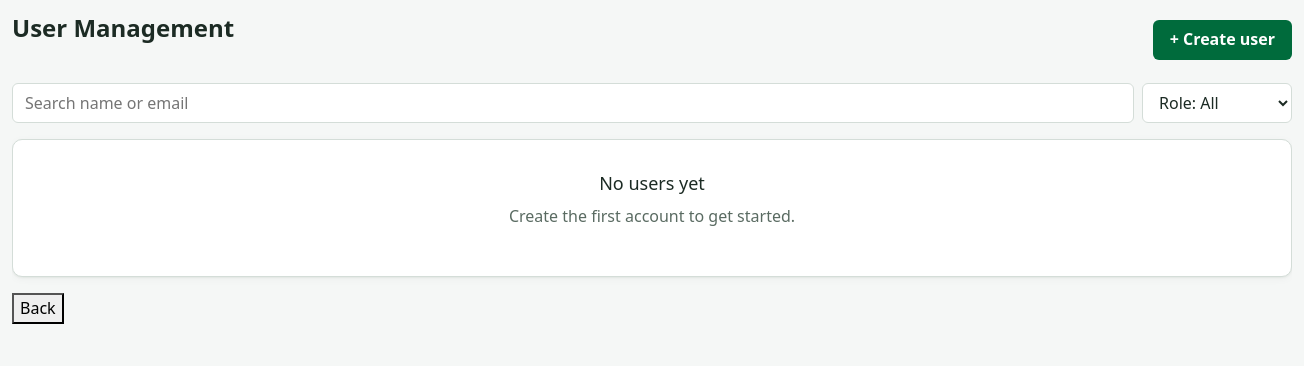
Scenario: UI-39: changing a filter writes the URL, so Back restores the previous filter › in User Management, a role chosen while a search is pending is kept
Step 1. Type "ann" into the search field named "Search users" → coordinates (573, 103), box 12,83 -> 1134,123
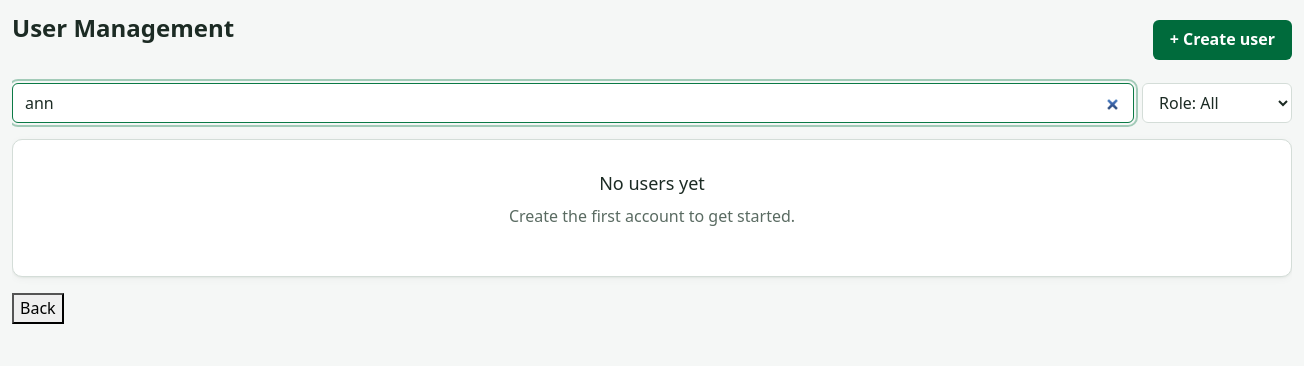
Step 2. Select "Administrator" in the dropdown named "Filter by role" → coordinates (1217, 103), box 1142,83 -> 1292,123
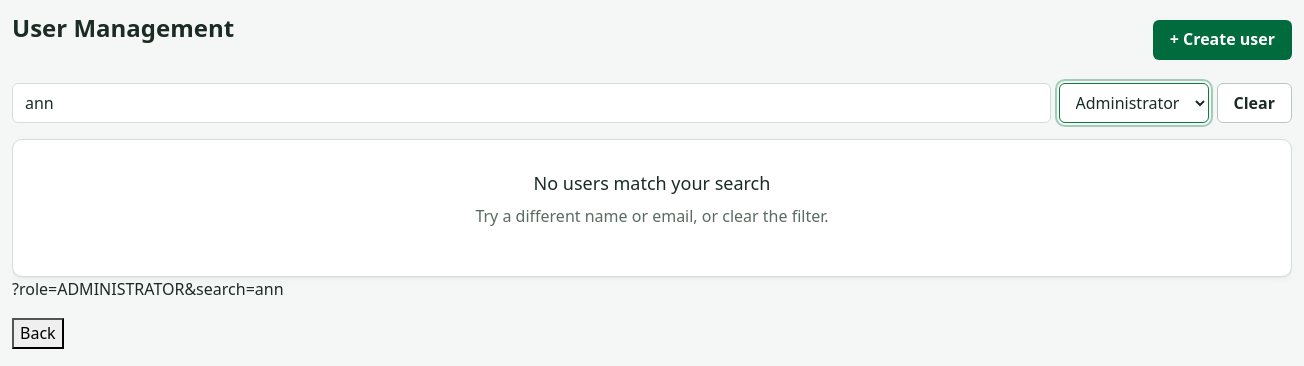
Expected: the text with test id "search" shows "search=ann", 12,278 -> 284,300
Expected: the text with test id "search" shows "role=ADMINISTRATOR", 12,278 -> 284,300
